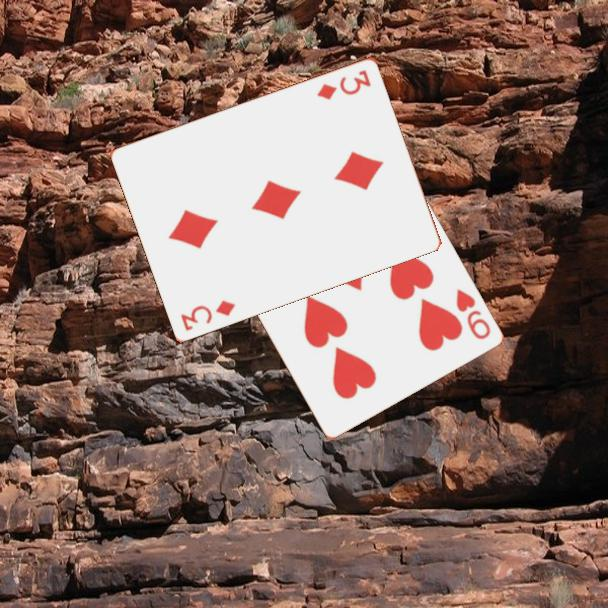d03: (177, 296, 238, 334), (313, 66, 374, 102)
h09: (452, 285, 493, 342)
